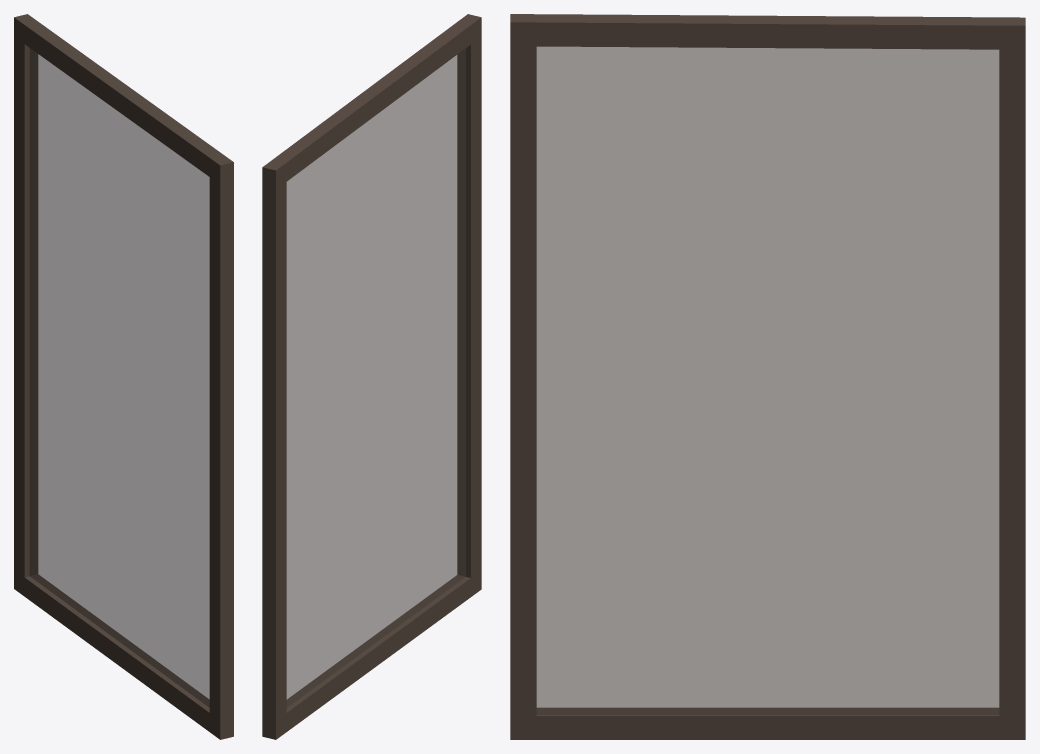
File: Door_Entrance_Left_L.glb
The picture shows the model from 3 angles, left to right: view 1: azimuth 30°, elevation 25°; view 2: azimuth 150°, elevation 25°; view 3: azimuth 270°, elevation 25°; orthographic projection. The views are drawn at different scales.
Visible parts, largest first — view 1: EntranceLeft_DoorLeft; view 2: EntranceLeft_DoorLeft; view 3: EntranceLeft_DoorLeft.
Part boxes in pixels (x1,y1,x2,y2): EntranceLeft_DoorLeft: (14, 14, 233, 739); EntranceLeft_DoorLeft: (262, 14, 481, 739); EntranceLeft_DoorLeft: (510, 14, 1025, 739).
Size of what is drawn, in the model's own units: 0.1304 by 5.25 by 3.42.
Materials: 2 (2 with a texture image).
